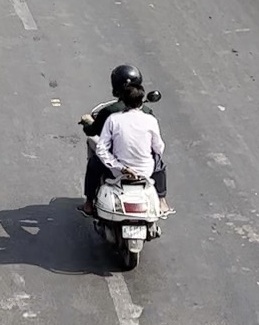BikeWithRider: (71, 61, 176, 276)
Helmet: (107, 62, 145, 99)
NoHelmet: (118, 82, 149, 117)
